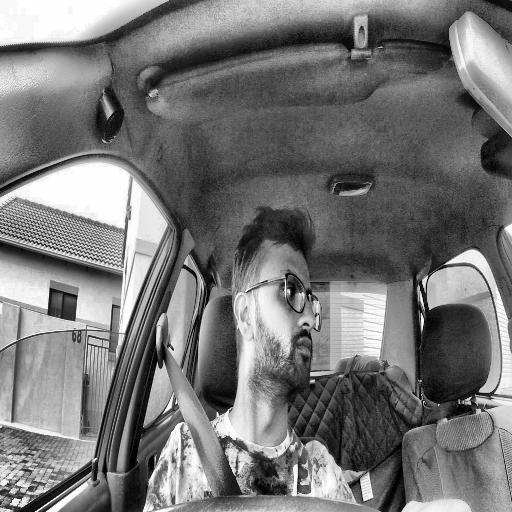awake: (231, 204, 323, 395)
